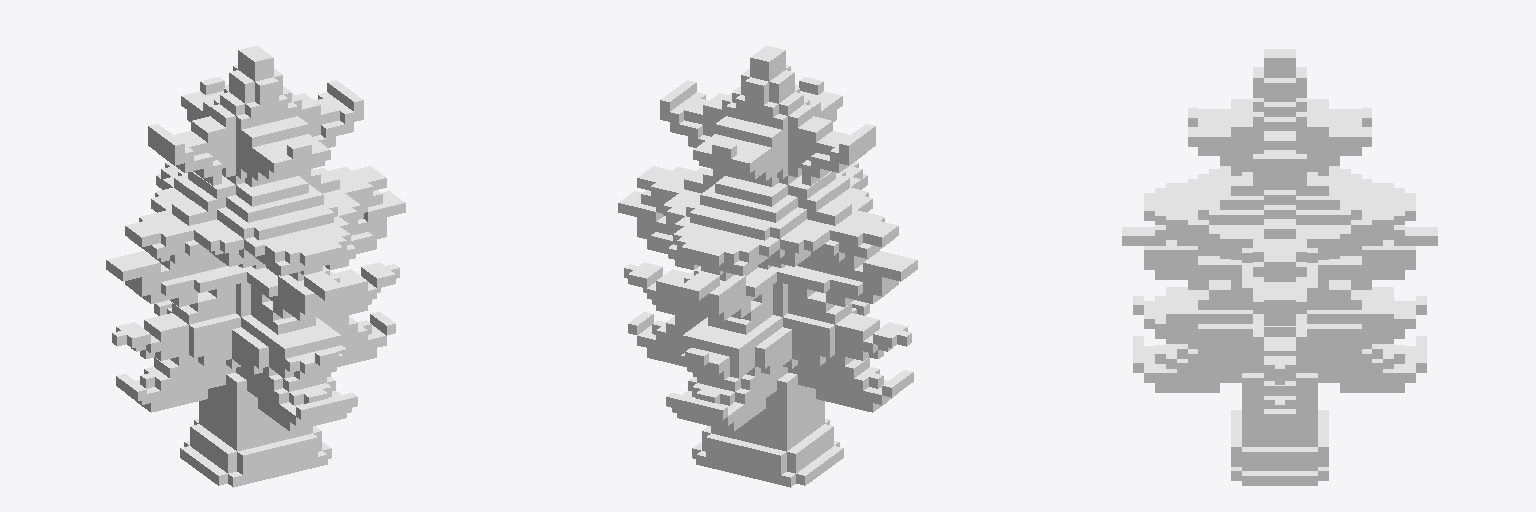
Rendered from 3DSnowPine.obj.
3 views of the same model, side by side, from view 1: azimuth 30°, elevation 25°; view 2: azimuth 150°, elevation 25°; view 3: azimuth 270°, elevation 25° (orthographic).
Visible parts, largest first — view 1: Snow Pine-1; view 2: Snow Pine-1; view 3: Snow Pine-1.
Boxes of the visible parts, x1,y1,x2,y2 form: Snow Pine-1: [106, 46, 405, 487]; Snow Pine-1: [618, 46, 917, 487]; Snow Pine-1: [1122, 49, 1437, 485].
Size of the model in its own units: 3 by 4.1 by 2.9.